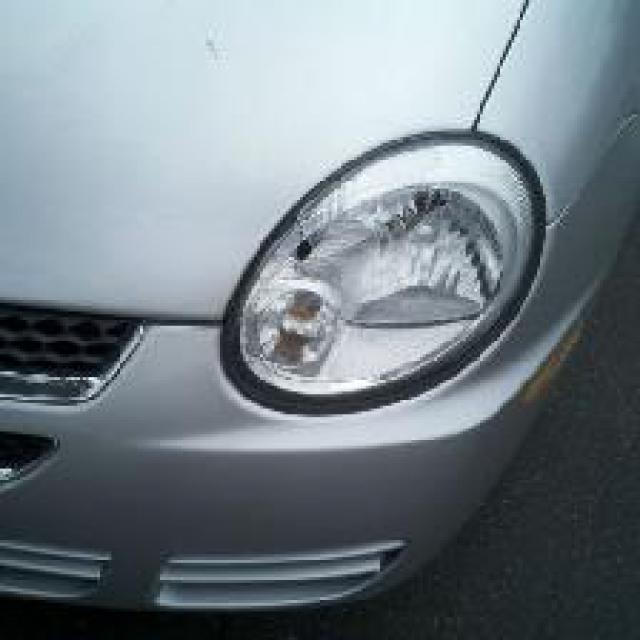head_lamp_minor: (226, 137, 514, 411)
